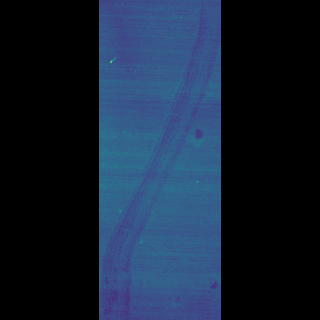Loch: (135, 10, 183, 317)
